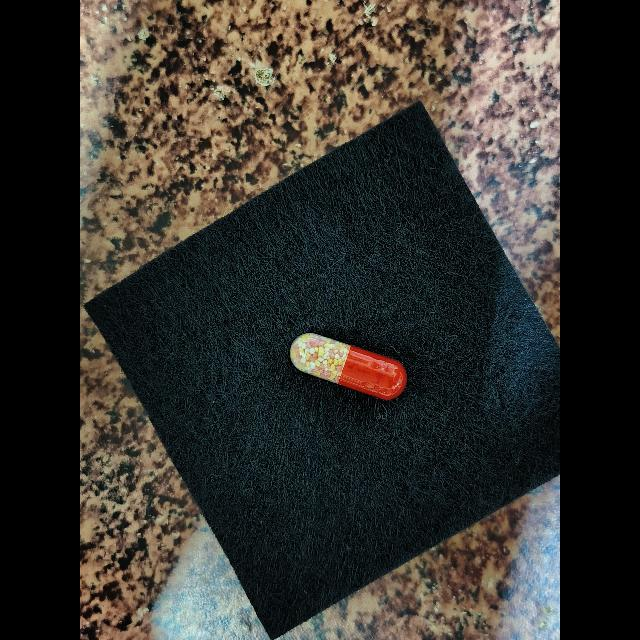Intact Capsule: (290, 333, 407, 400)
